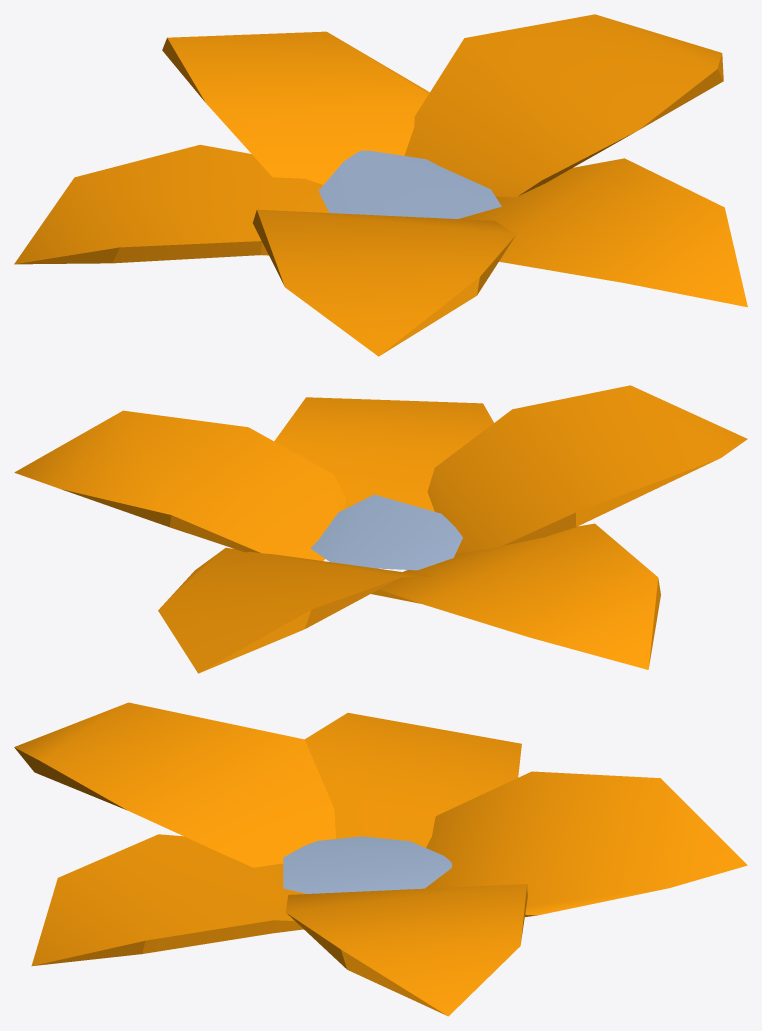
The model's file is Spring_Flower_04.glb.
The picture shows the model from 3 angles, top to bottom: view 1: azimuth 30°, elevation 25°; view 2: azimuth 150°, elevation 25°; view 3: azimuth 270°, elevation 25°; orthographic projection. The views are drawn at different scales.
Visible parts, largest first — view 1: Spring_Flower_04_LOD0; view 2: Spring_Flower_04_LOD0; view 3: Spring_Flower_04_LOD0.
Boxes of the visible parts, bbox=[...] form: Spring_Flower_04_LOD0: bbox=[14, 14, 747, 356]; Spring_Flower_04_LOD0: bbox=[14, 385, 747, 673]; Spring_Flower_04_LOD0: bbox=[14, 702, 747, 1016].
Size of what is drawn, in the model's own units: 0.292 by 0.044 by 0.2825.
Materials: 1 (1 with a texture image).
